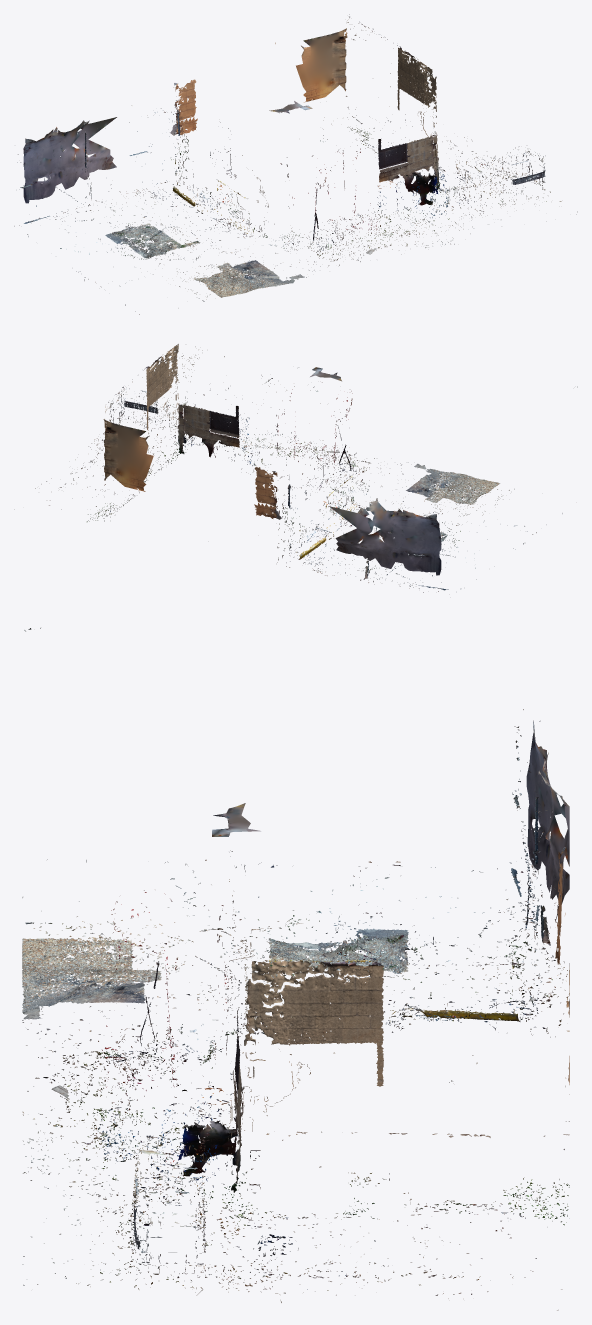
The picture shows the model from 3 angles, top to bottom: view 1: azimuth 30°, elevation 25°; view 2: azimuth 150°, elevation 25°; view 3: azimuth 270°, elevation 25°; orthographic projection. The views are drawn at different scales.
Size of the model in its own units: 11.17 by 3.29 by 6.15.
Materials: 1 (1 with a texture image).
